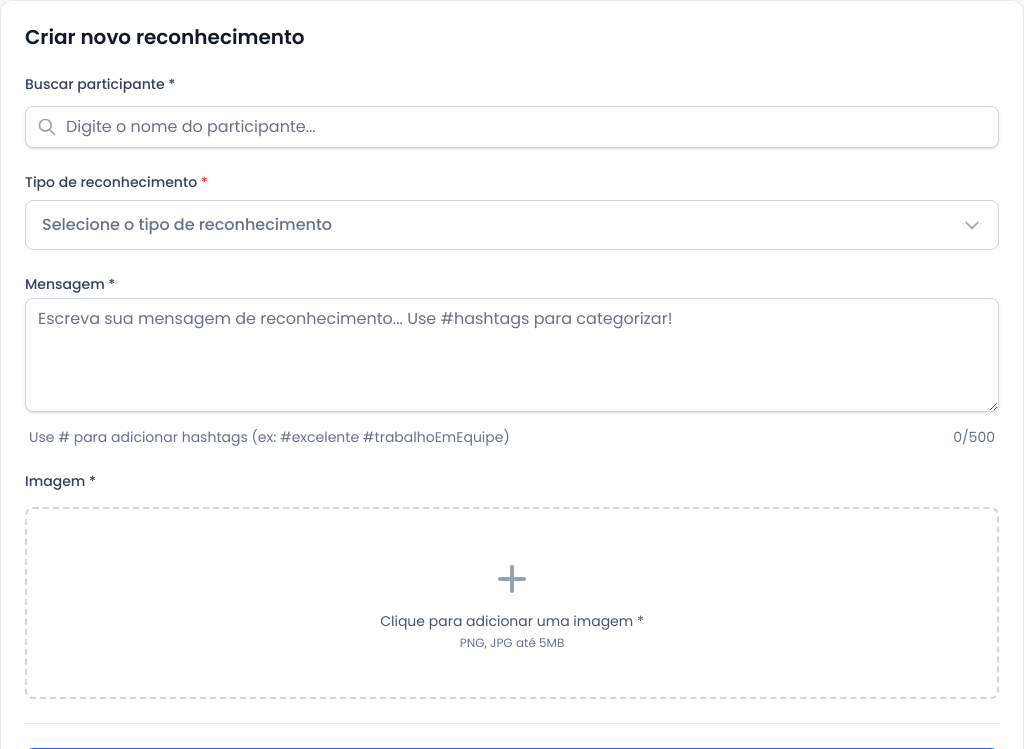
RecognitionForm › detects and displays hashtags from message
Note: Type message with hashtags
In the text box with placeholder "Escreva sua mensagem": (512, 355) [25, 298, 999, 412], type "Great work #teamwork #success"
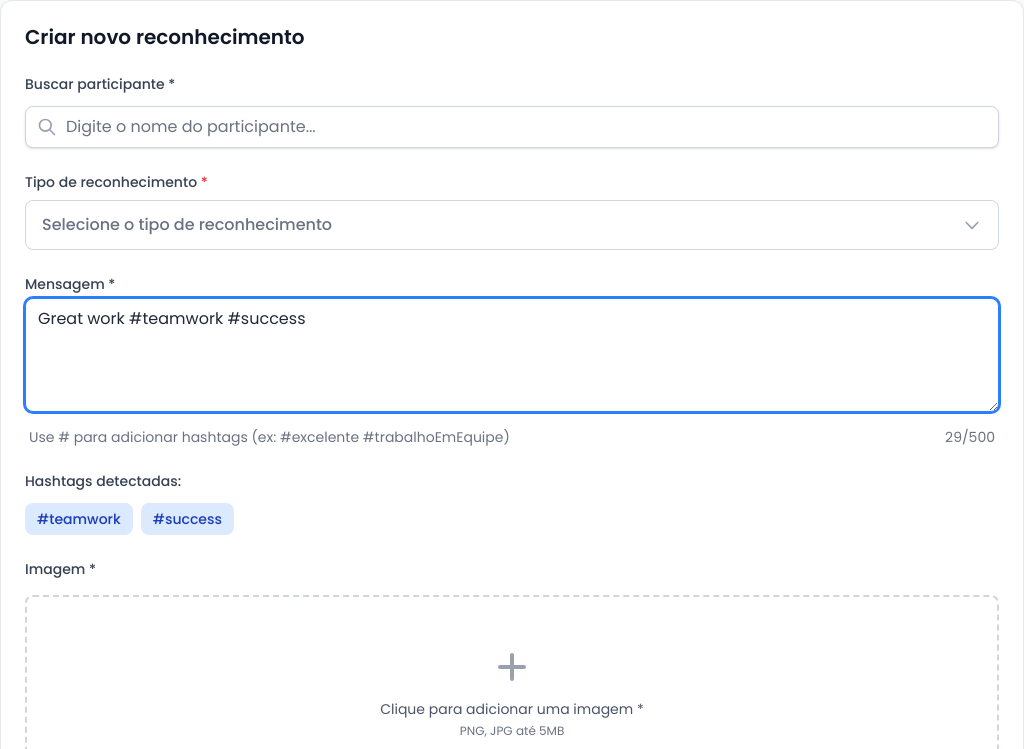
Expected: the text "Hashtags detectadas:" is shown, [25, 471, 181, 491]
Expected: the text "#teamwork" is shown, [25, 503, 133, 535]
Expected: the text "#success" is shown, [141, 503, 234, 535]
